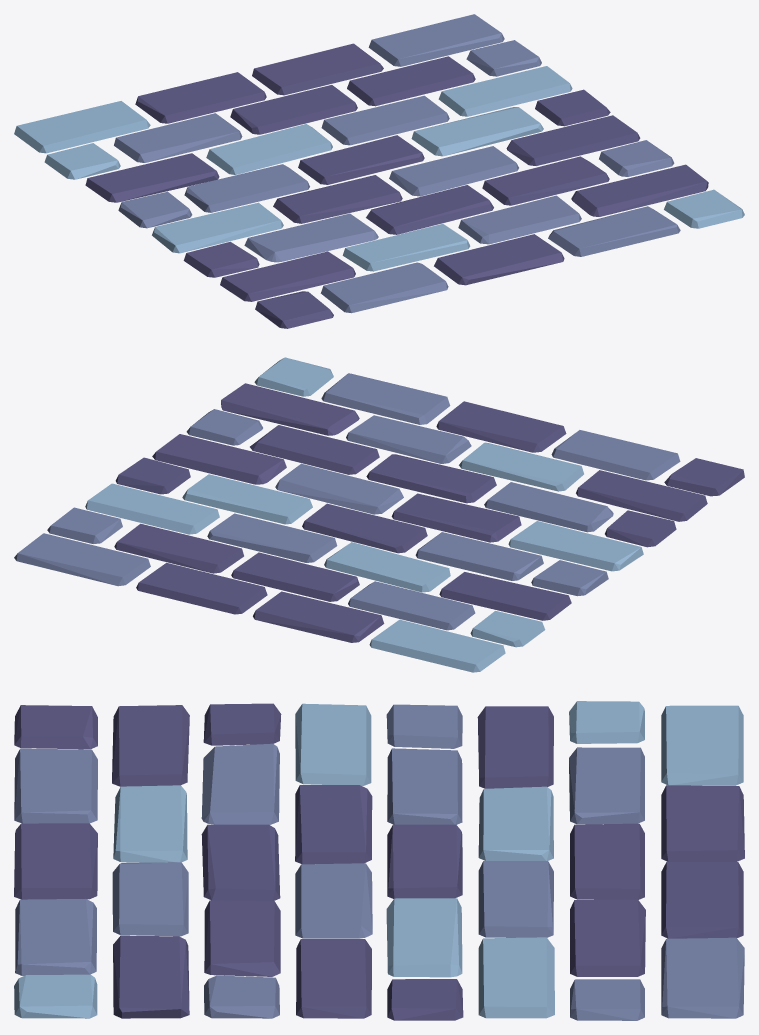
The model's file is Floor_Stones_Regular_01.fbx.
3 views of the same model, one above another, from view 1: azimuth 30°, elevation 25°; view 2: azimuth 150°, elevation 25°; view 3: azimuth 270°, elevation 25° (orthographic). The views are drawn at different scales.
Parts seen in each view (by area): view 1: Floor Stone 06; view 2: Floor Stone 06; view 3: Floor Stone 06.
Boxes of the visible parts, left/top/right/bottom form: Floor Stone 06: left=14, top=14, right=744, bottom=328; Floor Stone 06: left=14, top=357, right=744, bottom=672; Floor Stone 06: left=14, top=701, right=744, bottom=1020.
Bounding box in the file's own units: 405 × 7.79 × 400.
